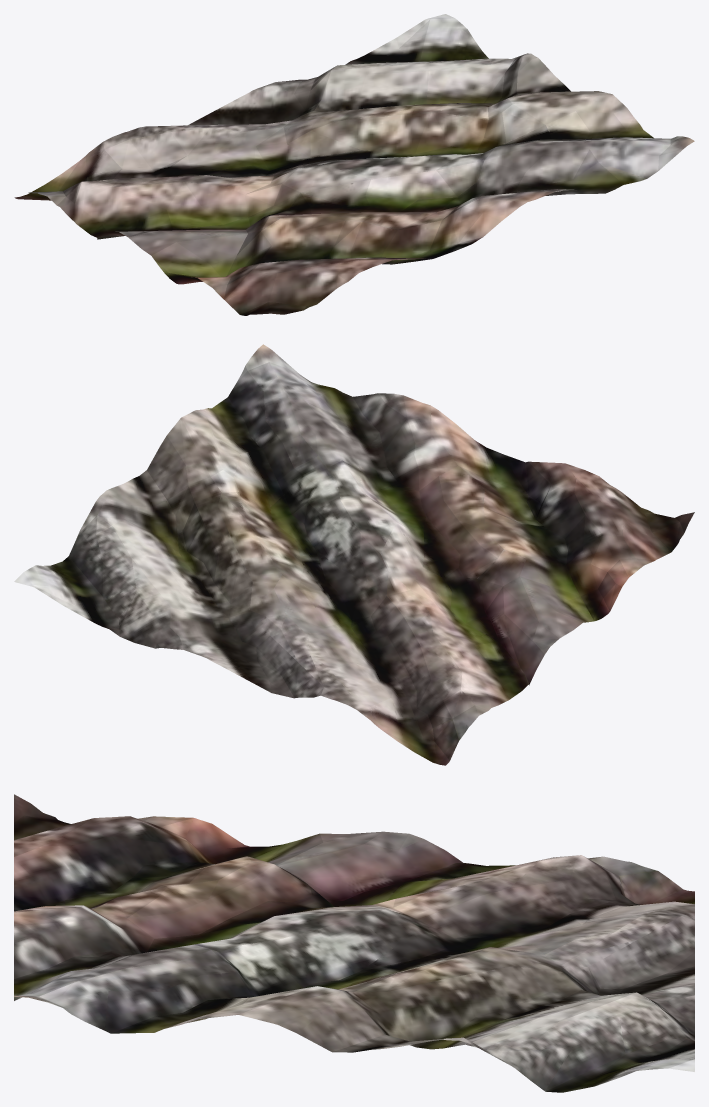
3 views of the same model, one above another, from view 1: azimuth 30°, elevation 25°; view 2: azimuth 150°, elevation 25°; view 3: azimuth 270°, elevation 25° (orthographic). The views are drawn at different scales.
Bounding box in the file's own units: 0.8374 × 0.2487 × 0.8374.
Materials: 3 (3 with a texture image).
